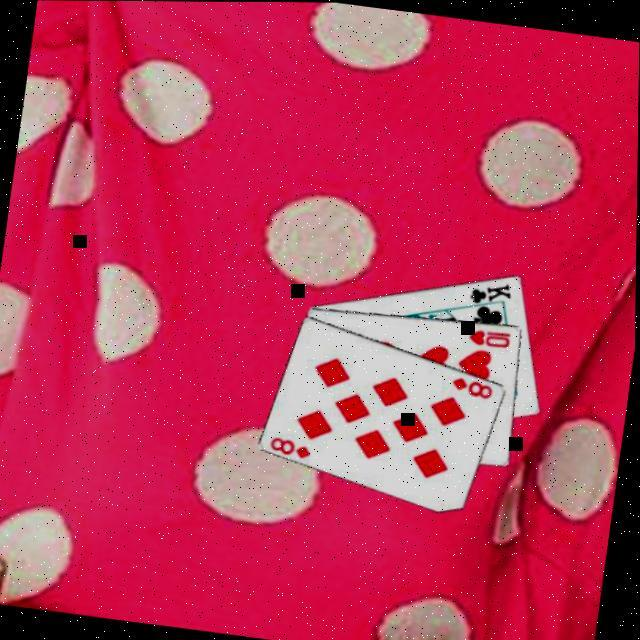10H: (467, 326, 515, 352)
8D: (449, 374, 498, 403), (269, 434, 318, 463)
KC: (466, 276, 518, 316)
